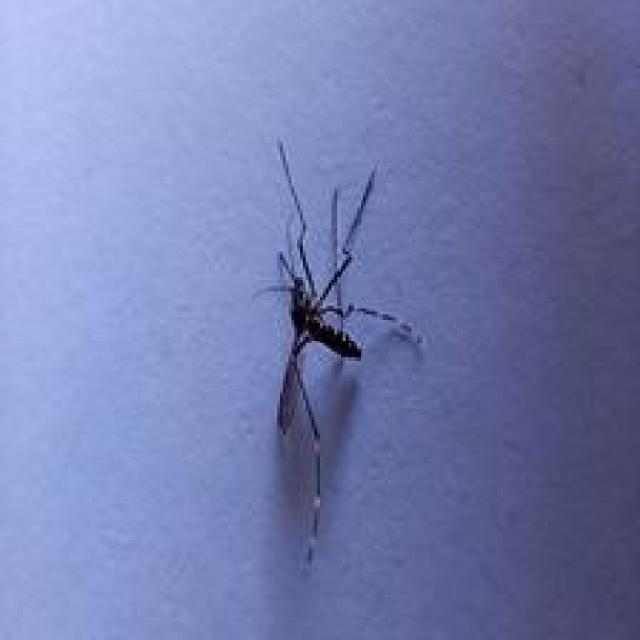Aedes albopictus: (251, 136, 426, 573)
